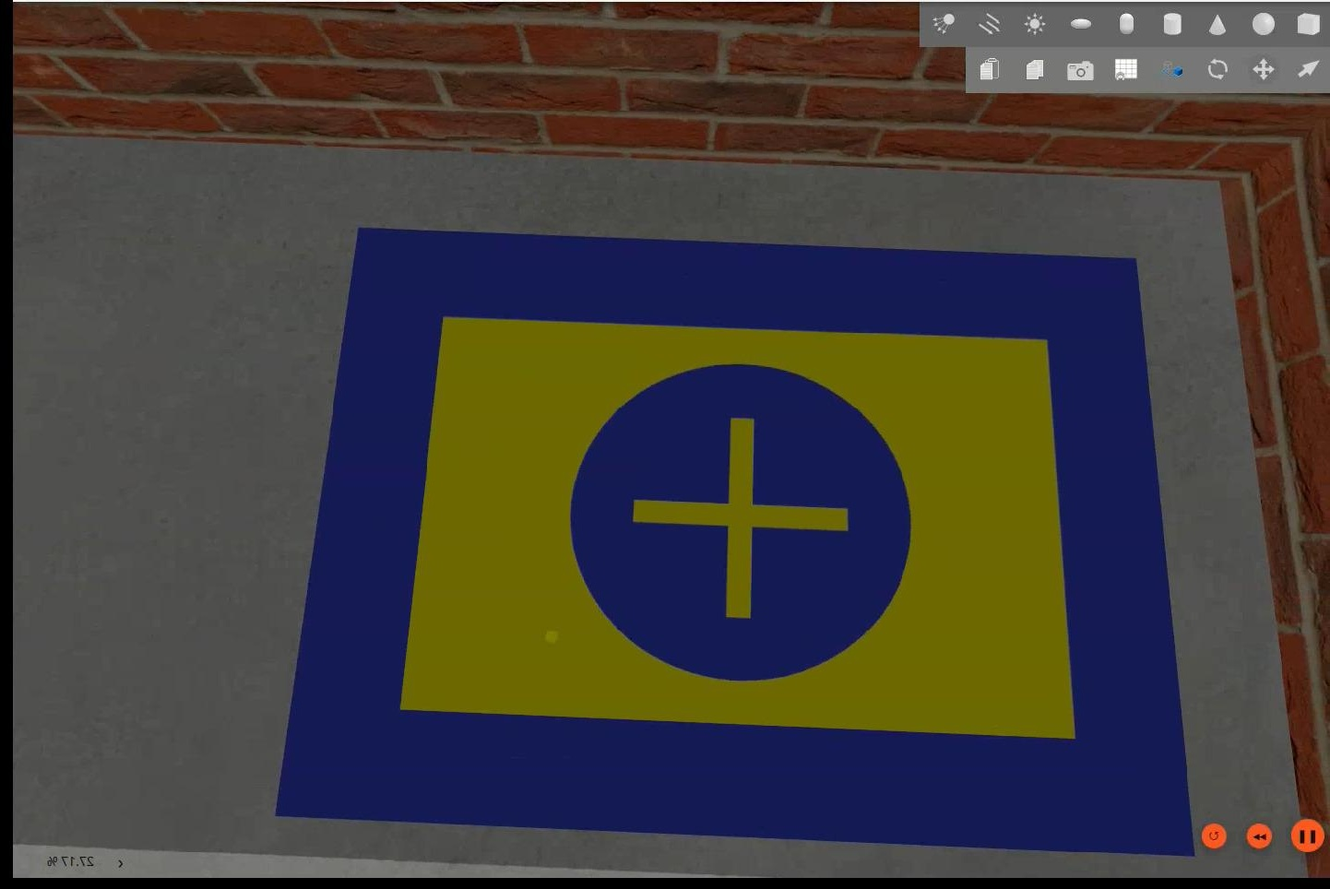large_base: (270, 229, 1191, 857)
